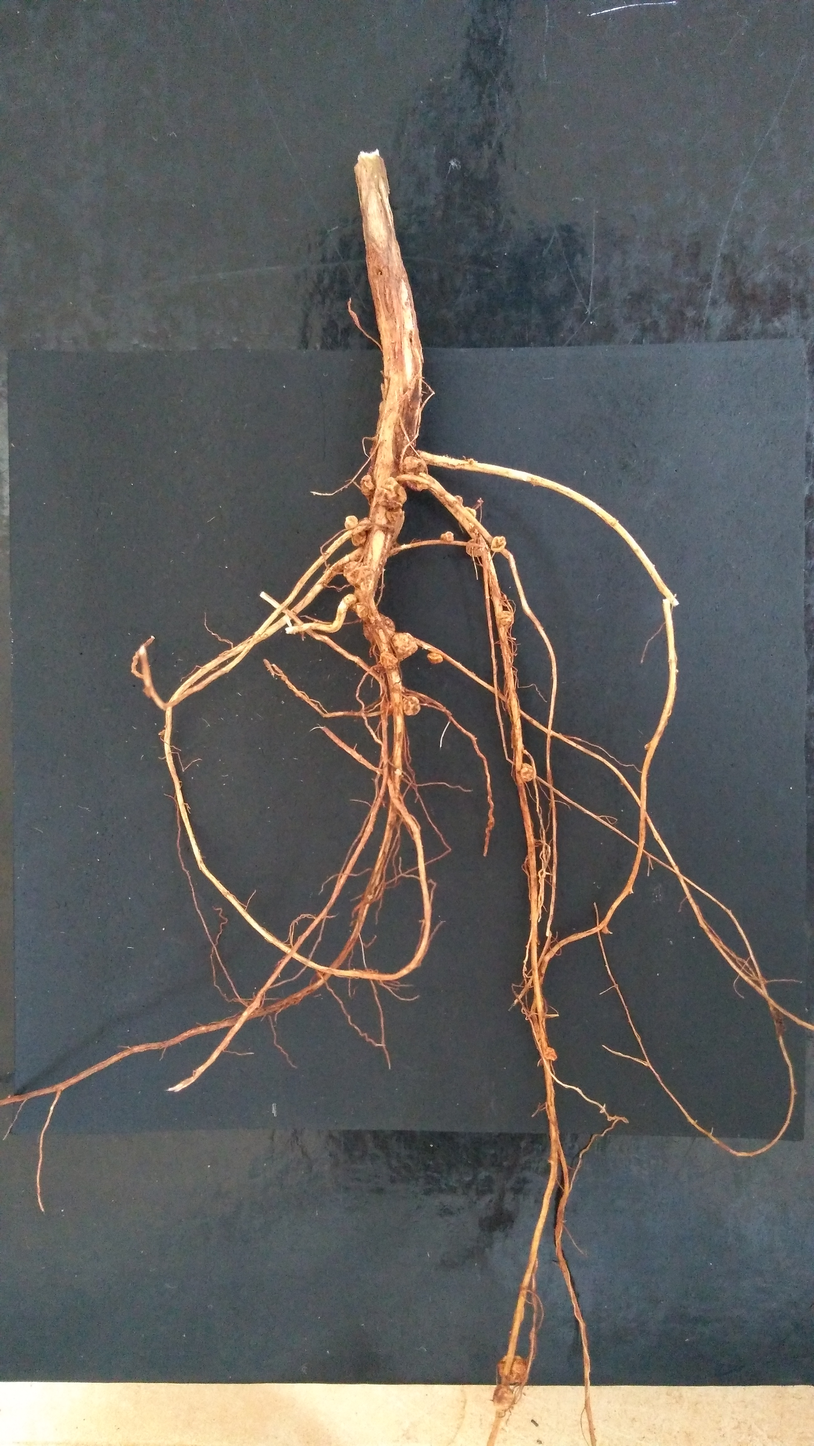nodule: (363, 613, 395, 643), (343, 561, 375, 591), (402, 456, 428, 492), (497, 1355, 528, 1384), (381, 476, 407, 509), (391, 632, 418, 661), (493, 1384, 514, 1412), (392, 508, 405, 542), (466, 538, 487, 557), (402, 696, 421, 716), (380, 651, 398, 670), (351, 526, 367, 547), (360, 474, 375, 496), (520, 762, 534, 782), (343, 594, 358, 612), (356, 601, 370, 619), (491, 536, 506, 552), (498, 611, 513, 626), (543, 1047, 557, 1061), (344, 515, 358, 529), (427, 652, 443, 664), (463, 507, 476, 521), (358, 517, 371, 530), (440, 531, 454, 542), (453, 495, 463, 506), (601, 925, 609, 934), (394, 768, 402, 776)
